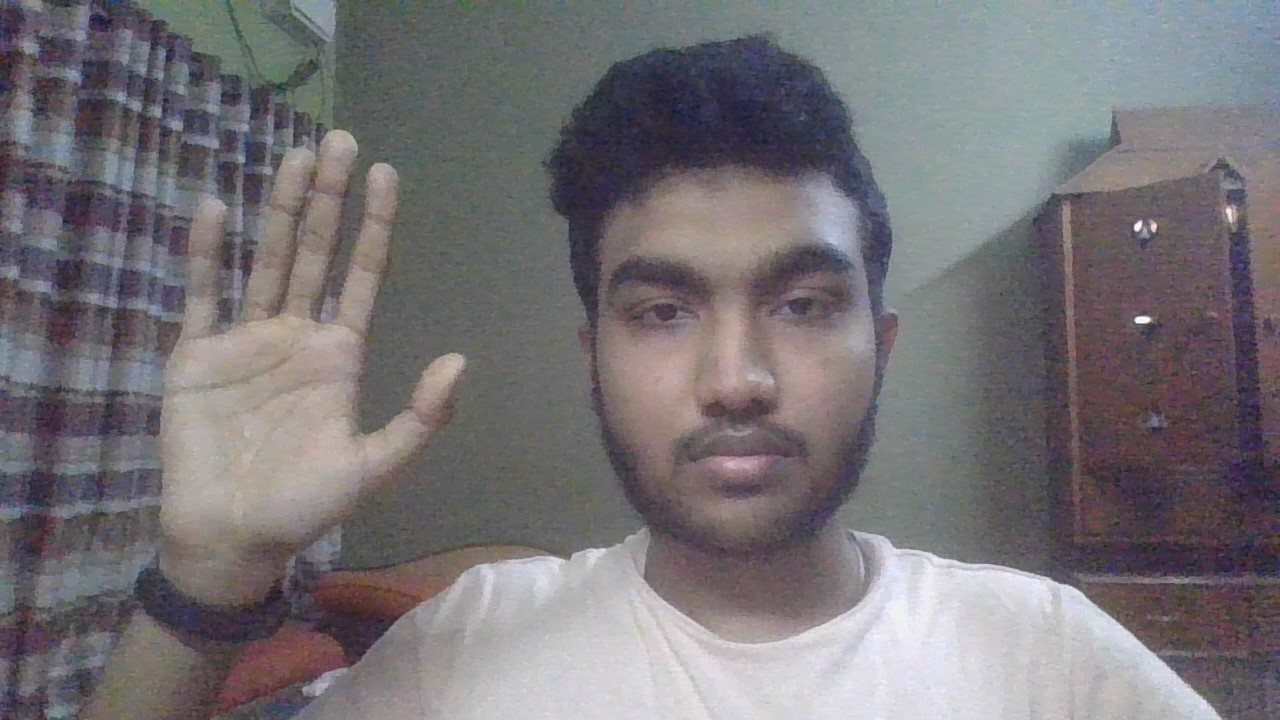Hello: (149, 117, 485, 577)
